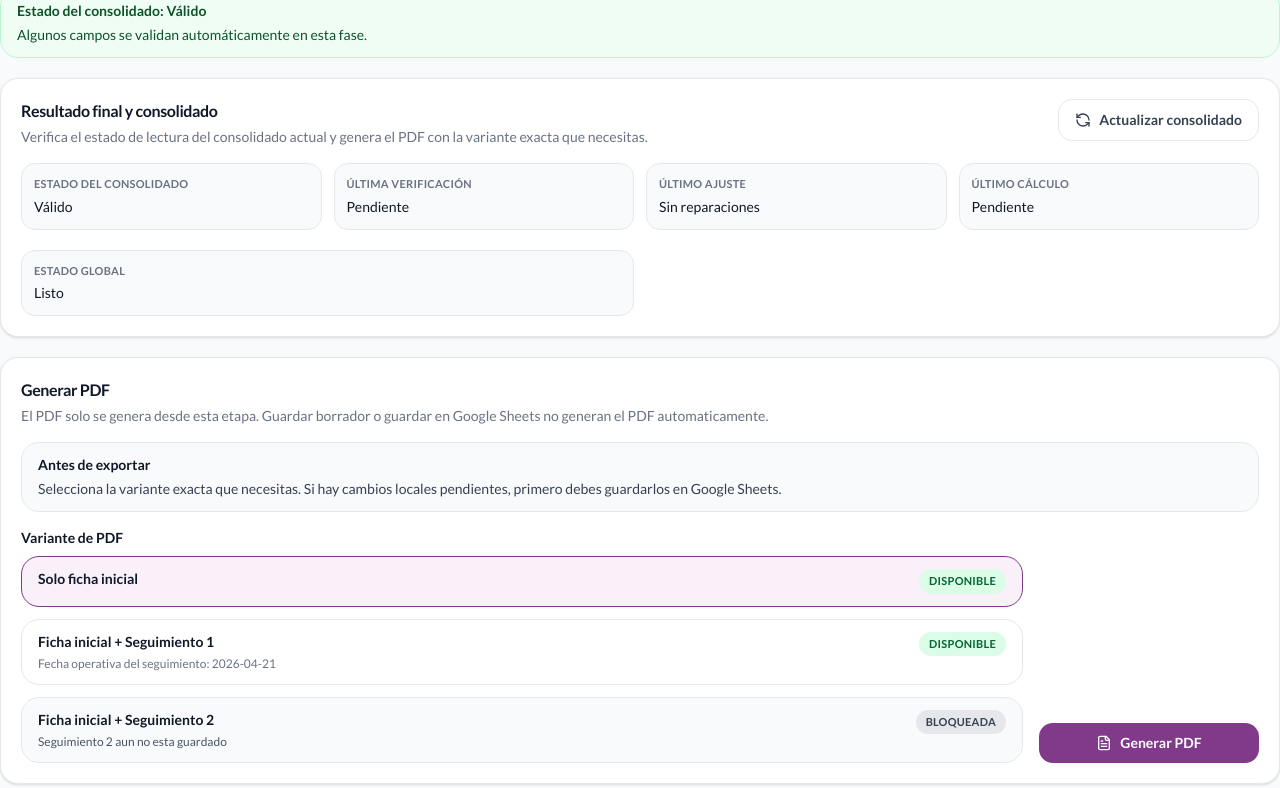
SeguimientosFinalStageEditor › renders all variants and surfaces the selected disabled reason
Check: the button with test id "seguimientos-final-pdf-option-base_only" is shown, box [21, 556, 1023, 606]
Check: the button with test id "seguimientos-final-pdf-option-base_plus_followup_1" is shown, box [21, 618, 1023, 684]
Click the button with test id "seguimientos-final-pdf-option-base_plus_followup_2" at (126, 719), box [21, 696, 1023, 762]
(page scrolled)
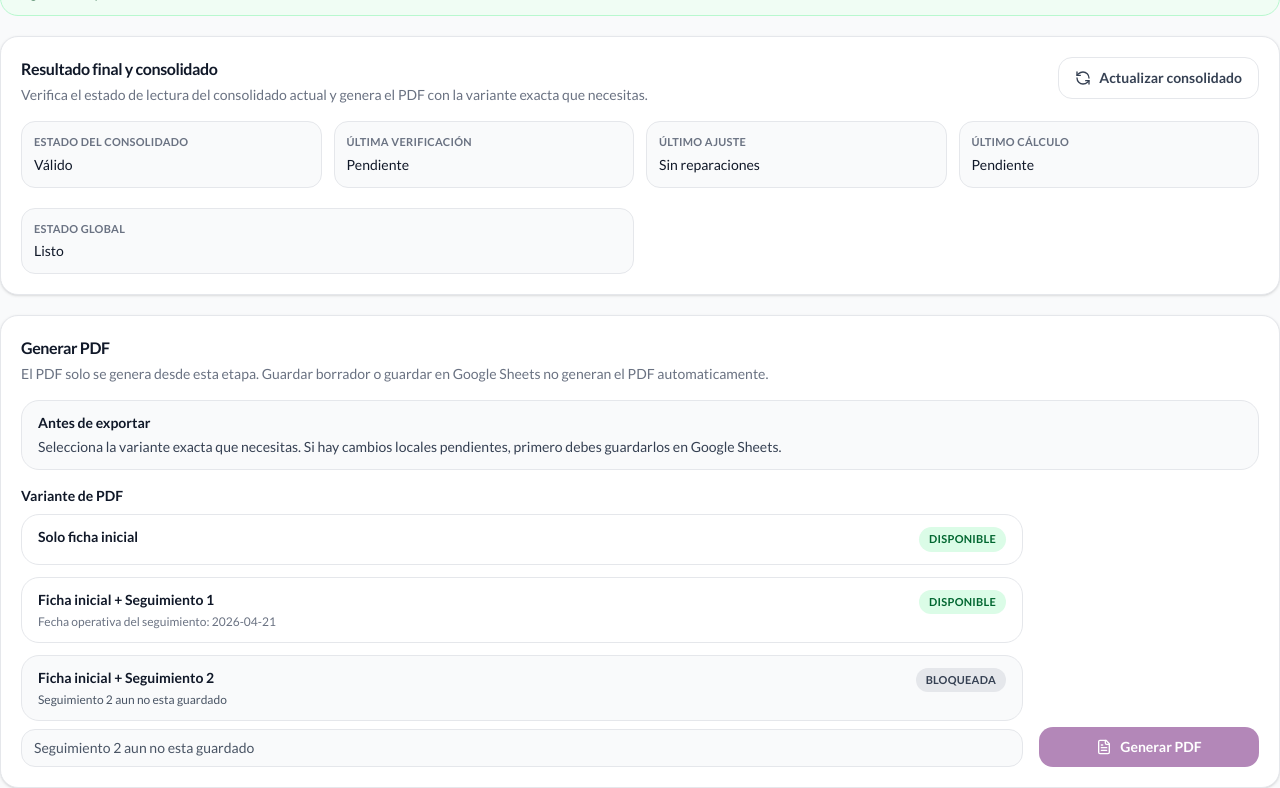
Check: the text with test id "seguimientos-final-pdf-notice" reads "Seguimiento 2 aun no esta guardado", box [34, 738, 254, 756]
Check: the button with test id "seguimientos-final-export-button" is disabled, box [1039, 726, 1259, 766]
